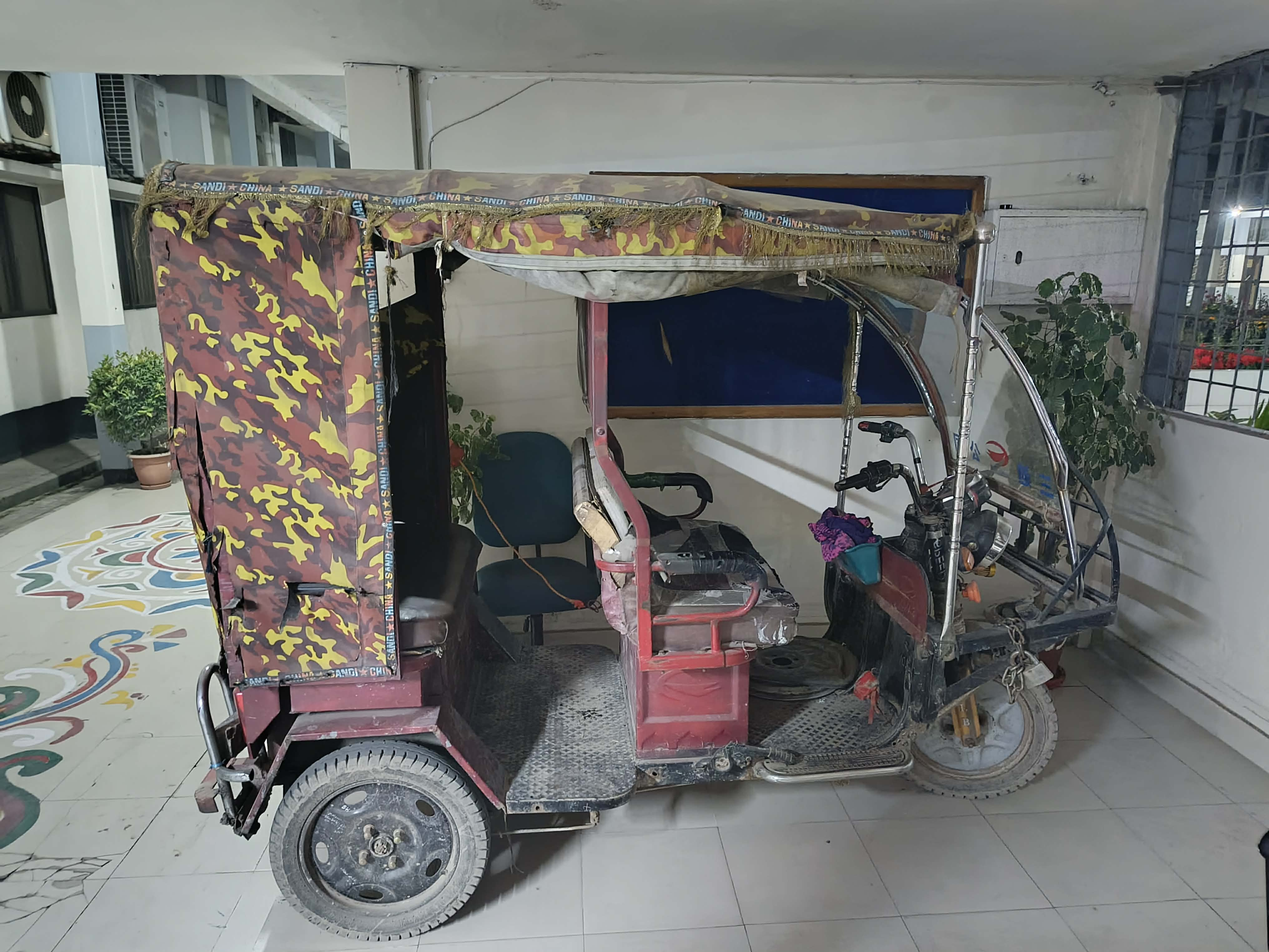auto-ricksaw: (106, 142, 1146, 952)
